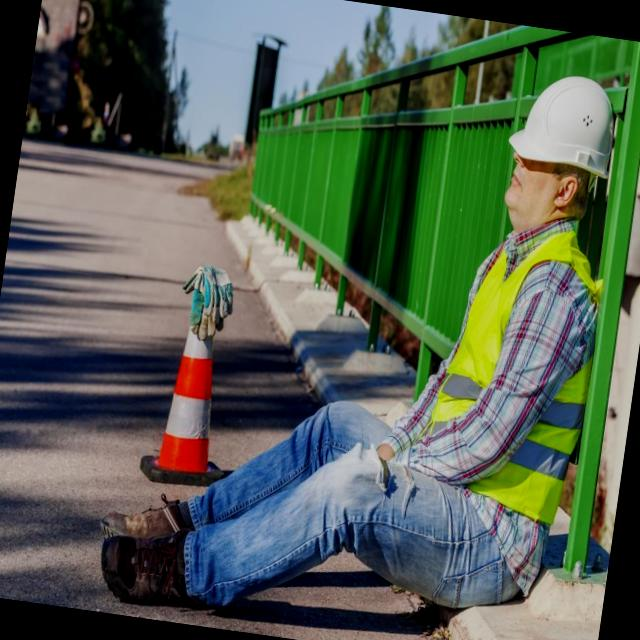helmet: (497, 61, 629, 199)
vest: (419, 210, 606, 530)
